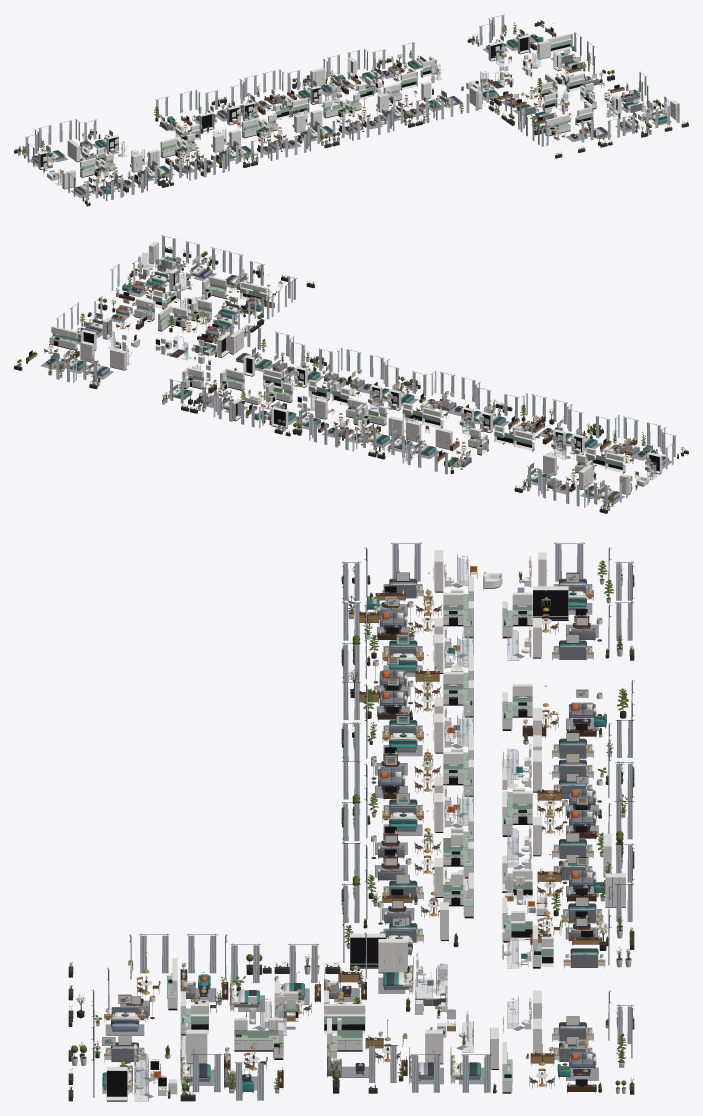
3 views of the same model, one above another, from view 1: azimuth 30°, elevation 25°; view 2: azimuth 150°, elevation 25°; view 3: azimuth 270°, elevation 25° (orthographic). The views are drawn at different scales.
Parts seen in each view (by area): view 1: in_L06_u93_furn_kitchen_run1__int_white_gloss, in_L06_u90_furn_kitchen_run1__int_white_gloss; view 2: in_L06_u90_furn_kitchen_run1__int_white_gloss; view 3: in_L06_u92_furn_kitchen_run1__int_white_gloss, in_L06_u104_furn_wardrobe1__int_white_gloss, in_L06_u95-a_furn_kitchen_run1__int_white_gloss, in_L06_u95-a_furn_wardrobe1__int_white_gloss, in_L06_u96_furn_wardrobe2__int_white_gloss.
Boxes of the visible parts, left/top/right/bottom form: in_L06_u93_furn_kitchen_run1__int_white_gloss: left=545, top=114, right=570, bottom=136; in_L06_u90_furn_kitchen_run1__int_white_gloss: left=548, top=33, right=572, bottom=53; in_L06_u90_furn_kitchen_run1__int_white_gloss: left=49, top=326, right=77, bottom=350; in_L06_u92_furn_kitchen_run1__int_white_gloss: left=234, top=1018, right=283, bottom=1051; in_L06_u104_furn_wardrobe1__int_white_gloss: left=533, top=586, right=568, bottom=620; in_L06_u95-a_furn_kitchen_run1__int_white_gloss: left=324, top=1004, right=365, bottom=1033; in_L06_u95-a_furn_wardrobe1__int_white_gloss: left=378, top=939, right=407, bottom=973; in_L06_u96_furn_wardrobe2__int_white_gloss: left=350, top=933, right=385, bottom=968.
Bounding box in the file's own units: 82.62 × 3 × 37.91.
